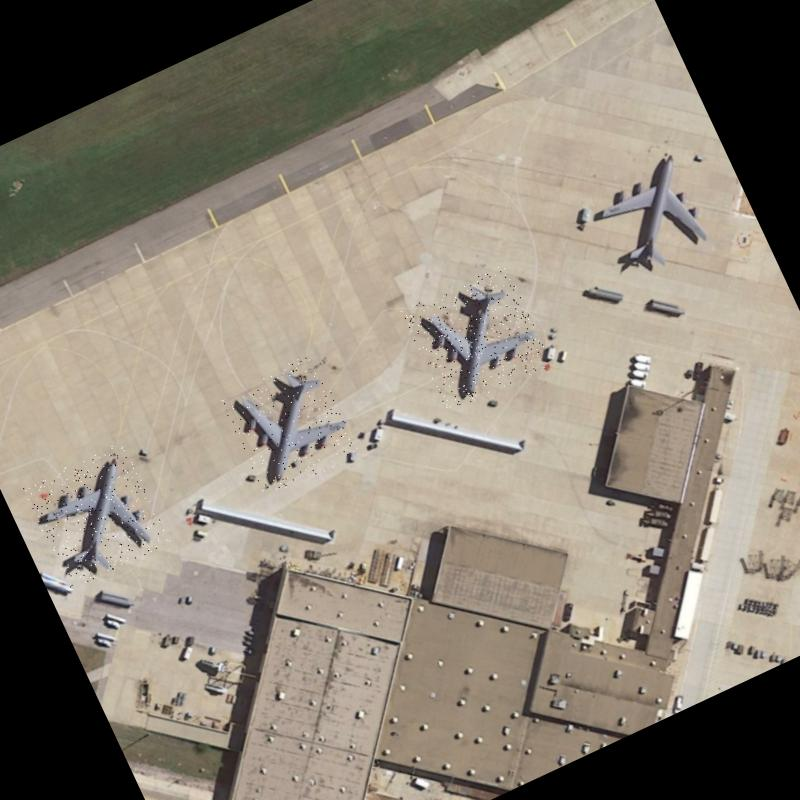A14: (572, 137, 724, 294), (400, 262, 552, 412), (21, 439, 170, 590), (218, 352, 360, 499)
